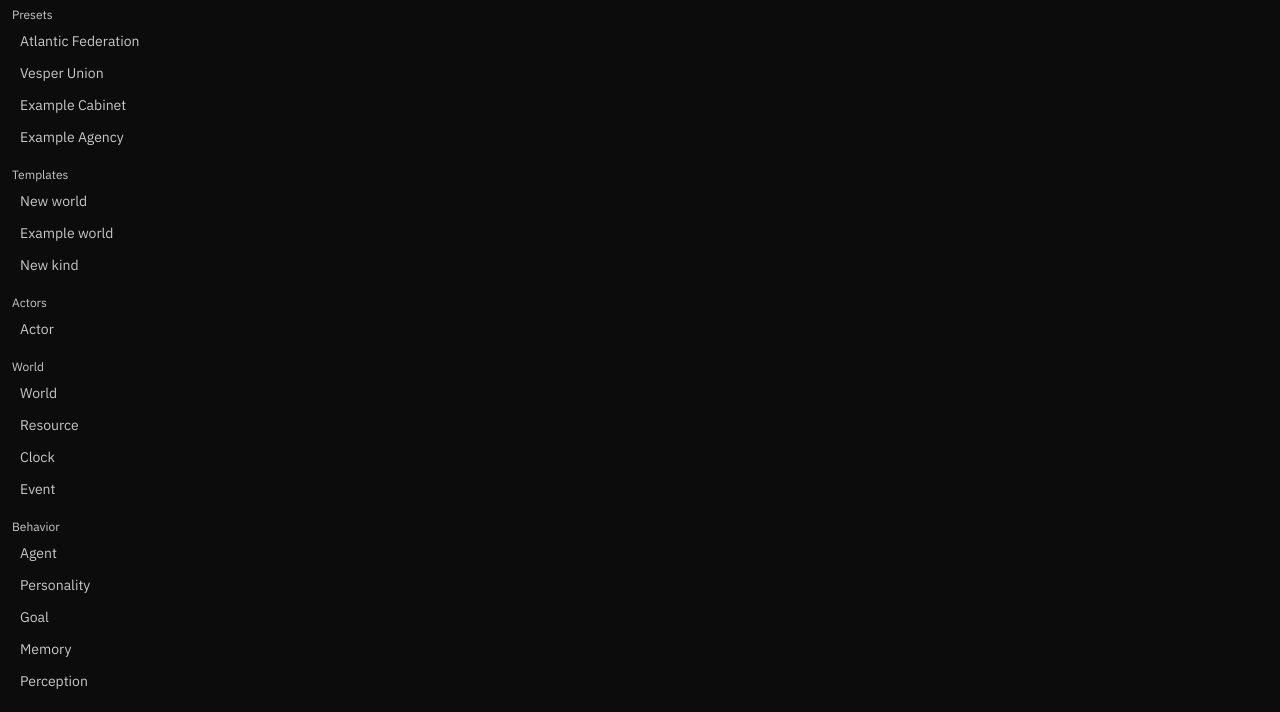
Test case: Kind author form › opens from New kind even when nothing is selected
Click the button "New kind".
click(49, 265)  # box [12,251,1268,279]
(page scrolled)
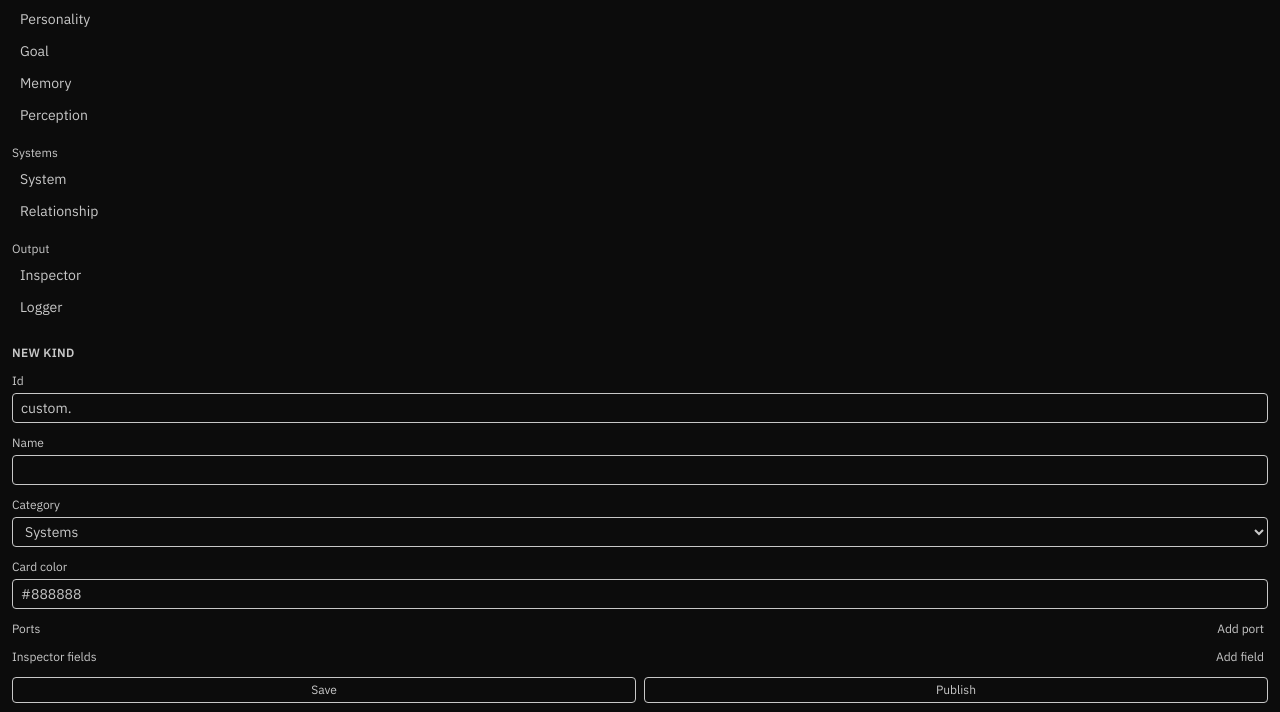
expect the field labelled "Id" is shown: met, box [12,393,1268,423]
